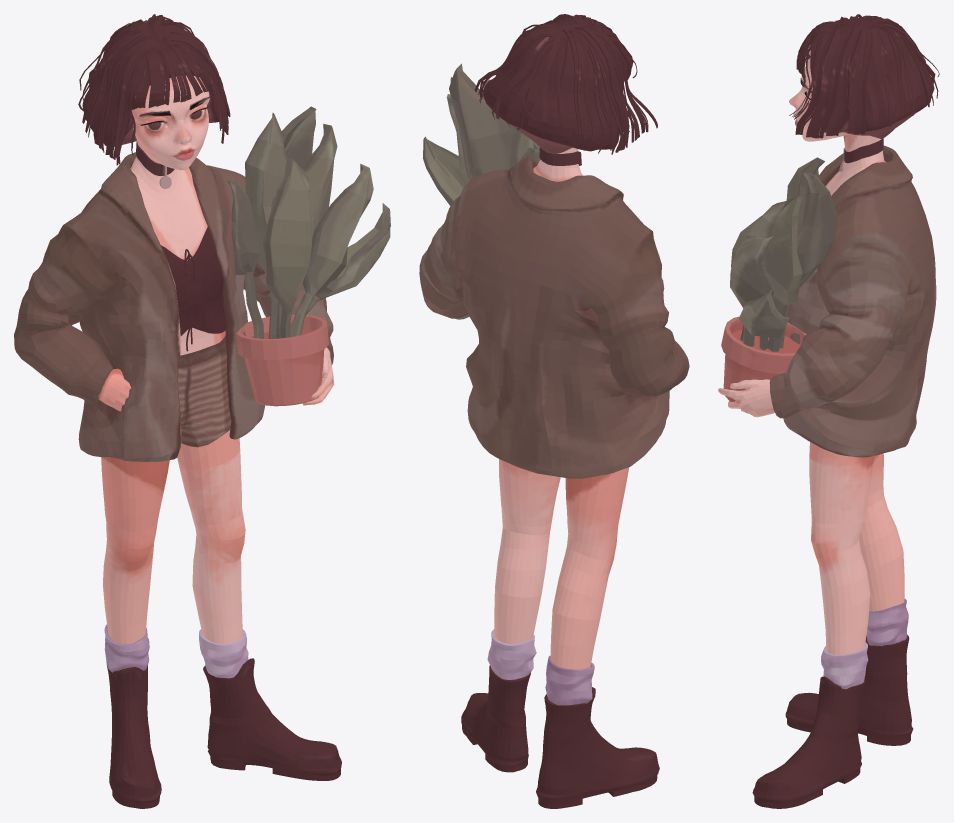
Rendered from maltida-v1.glb.
The picture shows the model from 3 angles, left to right: view 1: azimuth 30°, elevation 25°; view 2: azimuth 150°, elevation 25°; view 3: azimuth 270°, elevation 25°; orthographic projection. The views are drawn at different scales.
Visible parts, largest first — view 1: polySurface80, polySurface74, polySurface87, polySurface67, polySurface86, polySurface66, polySurface75, polySurface68, polySurface85, polySurface76, polySurface69, hairStrands_v2:polySurface28 (+7 smaller); view 2: polySurface80, polySurface74, hairStrands_v2:polySurface28, polySurface86, polySurface87, polySurface102, polySurface77, polySurface62, polySurface78, polySurface69, polySurface60, hairStrands_v2:Group52555 (+1 smaller); view 3: polySurface80, polySurface74, polySurface87, polySurface86, hairStrands_v2:polySurface28, polySurface67, polySurface72, polySurface102, polySurface68, polySurface62, polySurface77, polySurface78 (+15 smaller).
Boxes of the visible parts, box(x1,y1,x2,y2) form: polySurface80: box(14, 152, 333, 461); polySurface74: box(101, 143, 245, 644); polySurface87: box(203, 658, 341, 780); polySurface67: box(236, 315, 328, 406); polySurface86: box(107, 665, 161, 808); polySurface66: box(262, 158, 311, 338); polySurface75: box(178, 331, 231, 447); polySurface68: box(290, 163, 373, 336); polySurface85: box(131, 75, 209, 170); polySurface76: box(161, 226, 226, 336); polySurface69: box(245, 113, 287, 338); hairStrands_v2:polySurface28: box(82, 19, 219, 146); polySurface80: box(419, 157, 689, 478); polySurface74: box(494, 147, 629, 669); hairStrands_v2:polySurface28: box(483, 17, 624, 153); polySurface86: box(536, 687, 659, 808); polySurface87: box(461, 665, 530, 772); polySurface102: box(449, 63, 512, 179); polySurface77: box(545, 655, 594, 705); polySurface62: box(423, 136, 468, 205); polySurface78: box(487, 629, 536, 679); polySurface69: box(484, 79, 534, 168); polySurface60: box(539, 147, 581, 165); hairStrands_v2:Group52555: box(541, 33, 560, 135); polySurface80: box(769, 145, 936, 457); polySurface74: box(809, 134, 904, 654); polySurface87: box(752, 676, 865, 808); polySurface86: box(785, 634, 913, 745); hairStrands_v2:polySurface28: box(810, 17, 934, 138); polySurface67: box(721, 316, 806, 401); polySurface72: box(765, 194, 805, 351); polySurface102: box(767, 172, 837, 349); polySurface68: box(730, 235, 774, 346); polySurface62: box(738, 289, 789, 350); polySurface77: box(866, 599, 908, 646); polySurface78: box(821, 642, 868, 689).
Bounding box in the file's own units: 82.65 × 191 × 52.97.
1 material, 1 textured.
